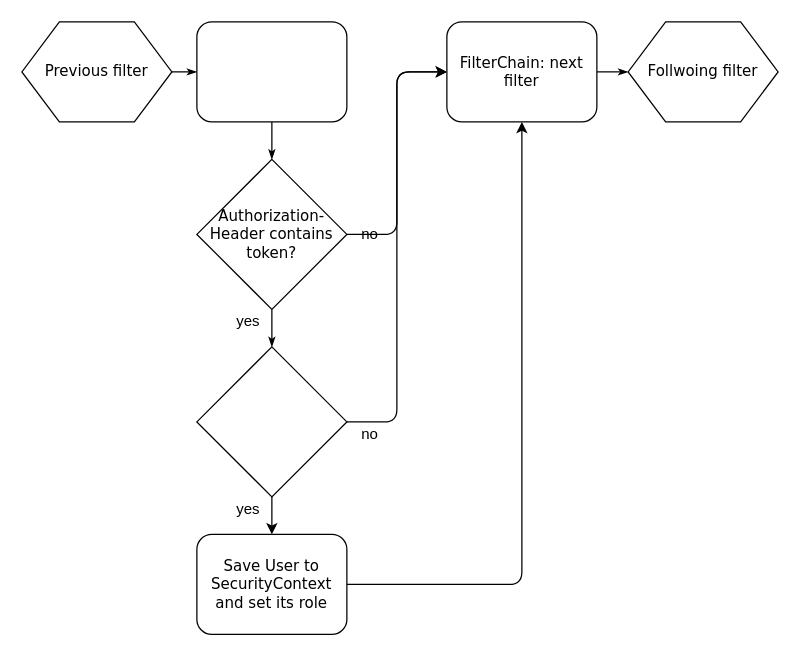
This 800x656 diagram has some shape labels left out. The centre of each missing label's shape, as x and y in pixels:
"Authorization Token Filter" belongs at pixel 271 71.
"User exists & token is valid?" belongs at pixel 271 421.
